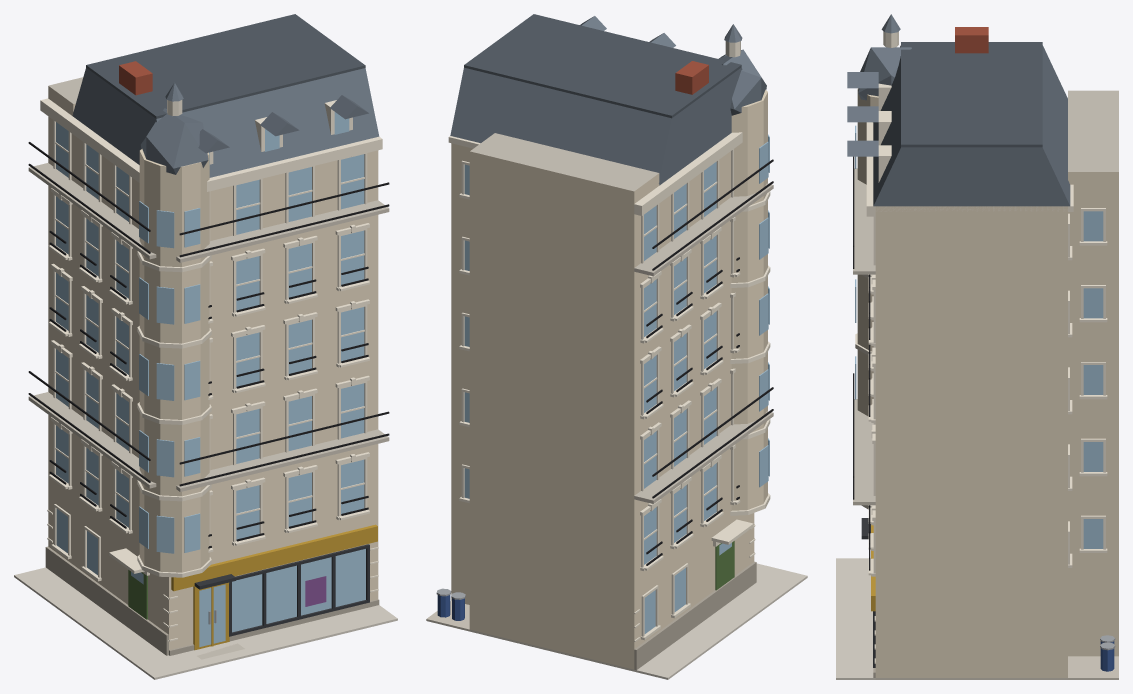
File: Blok_kose_6k_1_Hafif.fbx
3 views of the same model, side by side, from view 1: azimuth 30°, elevation 25°; view 2: azimuth 150°, elevation 25°; view 3: azimuth 270°, elevation 25° (orthographic).
Visible parts, largest first — view 1: Blok_kose_6k_1_Hafif; view 2: Blok_kose_6k_1_Hafif; view 3: Blok_kose_6k_1_Hafif.
Boxes of the visible parts, left/top/right/bottom form: Blok_kose_6k_1_Hafif: left=14, top=14, right=397, bottom=679; Blok_kose_6k_1_Hafif: left=426, top=14, right=807, bottom=679; Blok_kose_6k_1_Hafif: left=836, top=14, right=1118, bottom=679.
Bounding box in the file's own units: 10 × 22.27 × 10.
